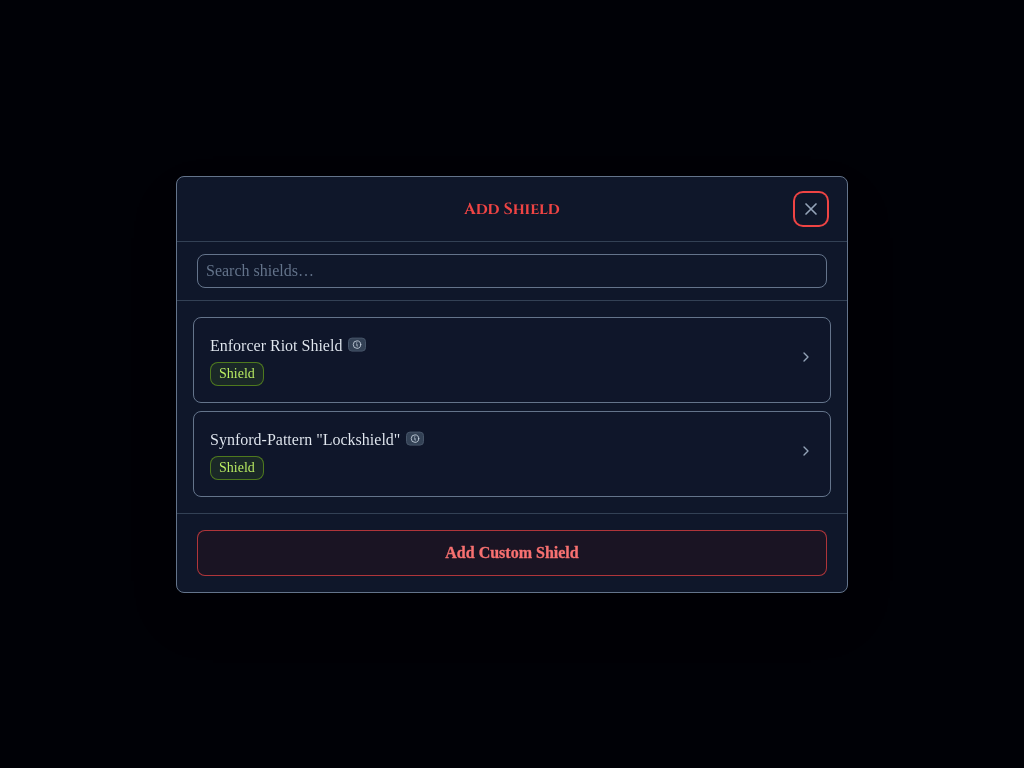
ShieldPicker › filters the list by search query
Step 1. Type "Enforcer" into the search field with placeholder "Search shields…" → (512, 270), box left=197, top=254, right=827, bottom=288
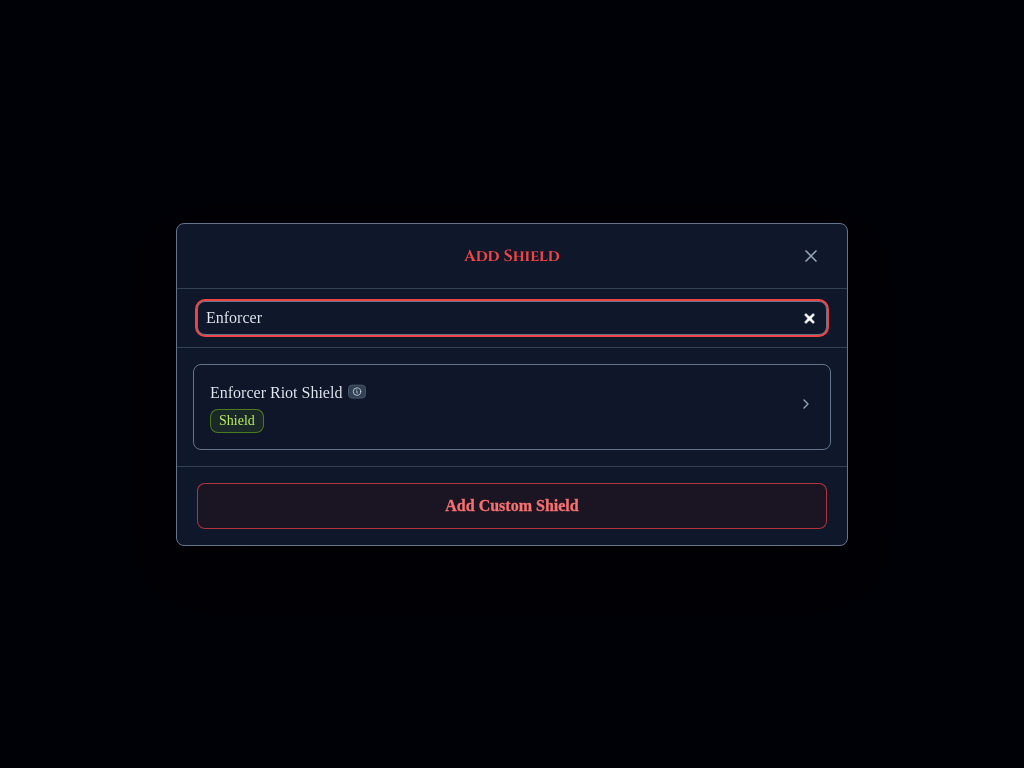
Expected: the text "Synford-Pattern \"Lockshield\"" is not shown
